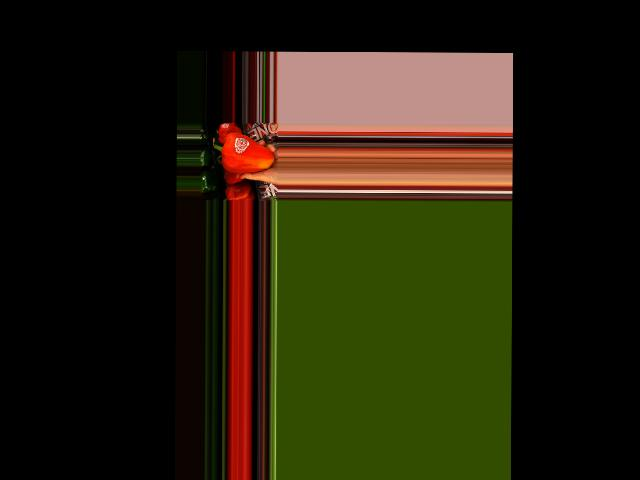bell_pepper: (212, 131, 273, 178)
